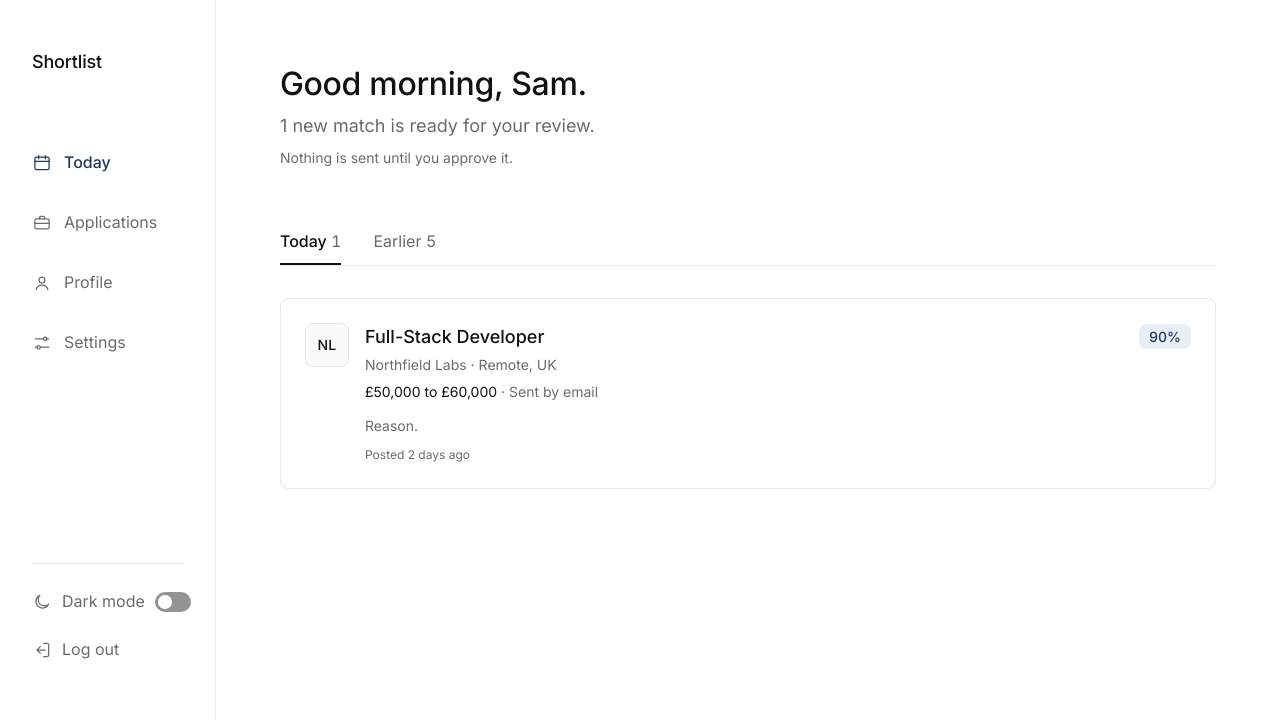
Test: Earlier tab › shows skipped matches on request
Click the tab "Earlier 5".
click(405, 241)  # box [373,217,436,265]
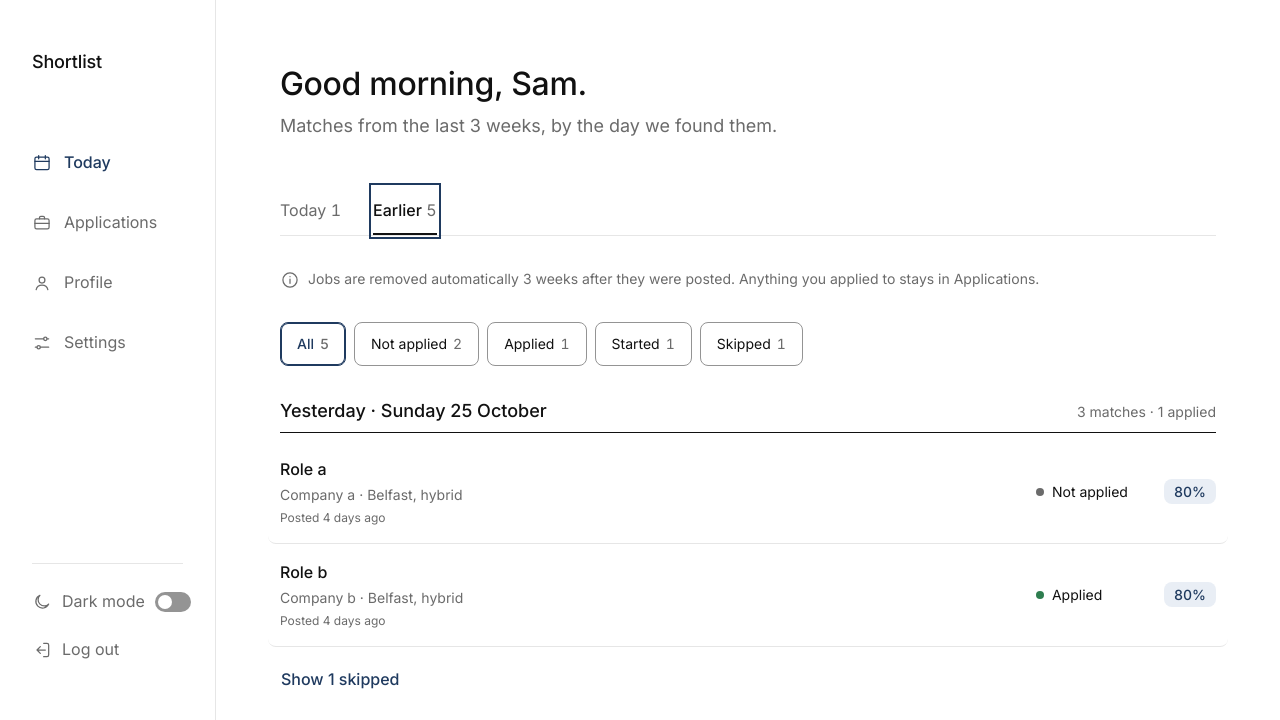
Now the text "Matches from the last 3 weeks, by the day we found them." is shown, box [280,115,777,136]
Click the button "Show 1 skipped".
click(340, 679)  # box [268,655,412,703]
(page scrolled)
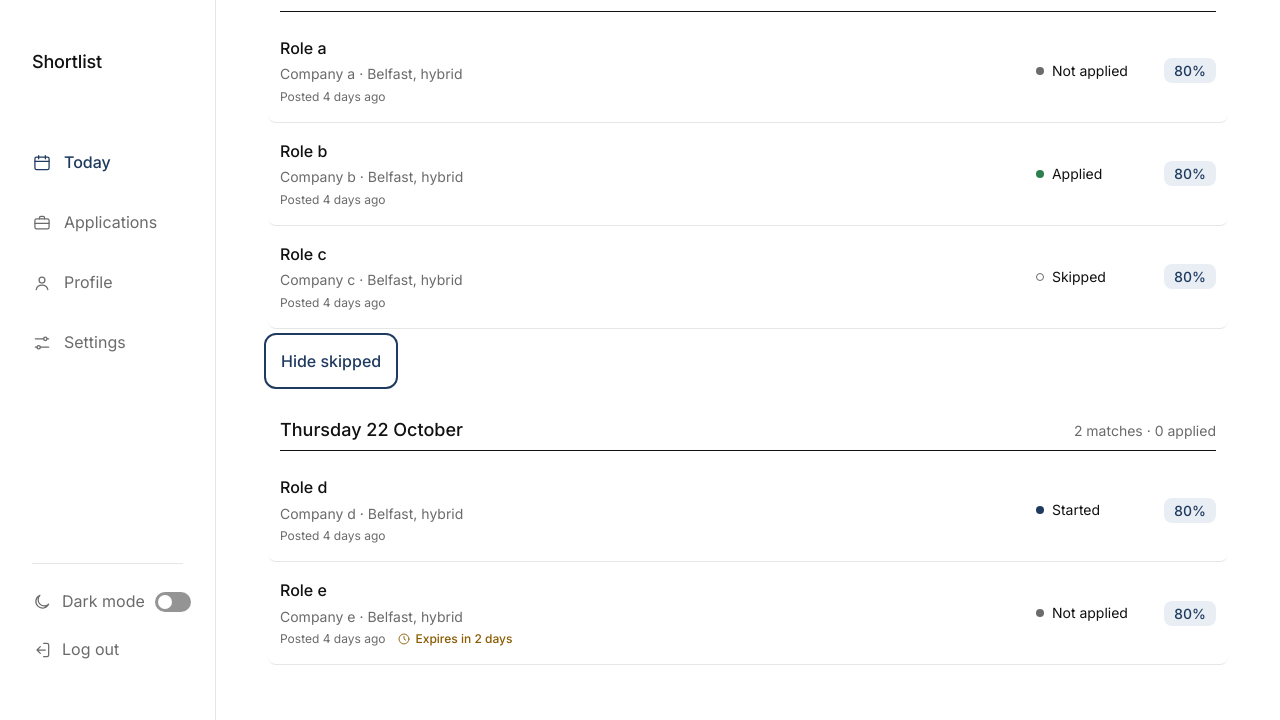
Now the text "Role c" is shown, box [280,244,327,264]
Now the button "Hide skipped" is expanded, box [268,337,394,385]
